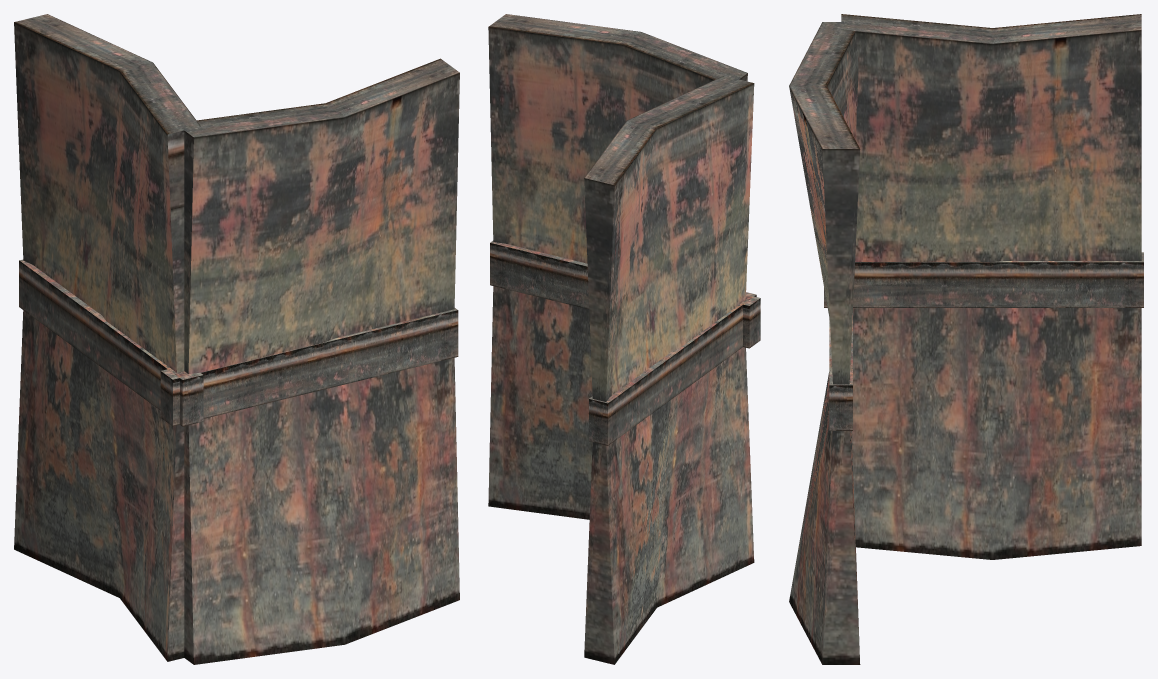
File: wall_L.FBX
The picture shows the model from 3 angles, left to right: view 1: azimuth 30°, elevation 25°; view 2: azimuth 150°, elevation 25°; view 3: azimuth 270°, elevation 25°; orthographic projection. The views are drawn at different scales.
Parts seen in each view (by area): view 1: wall_base005, wall_base006, Box026, Box027; view 2: wall_base006, wall_base005, Box027, Box026; view 3: wall_base006, wall_base005, Box027, Box026.
Part boxes in pixels (x1,y1,x2,y2): wall_base005: (184, 58, 459, 664); wall_base006: (14, 14, 200, 661); Box026: (160, 308, 458, 426); Box027: (19, 259, 203, 426); wall_base006: (584, 76, 754, 664); wall_base005: (488, 14, 747, 519); Box027: (589, 292, 756, 445); Box026: (490, 240, 760, 348); wall_base006: (841, 14, 1141, 559); wall_base005: (789, 22, 860, 664); Box027: (824, 252, 1143, 307); Box026: (829, 313, 852, 430).
Size of the model in its own units: 538 by 951 by 592.
